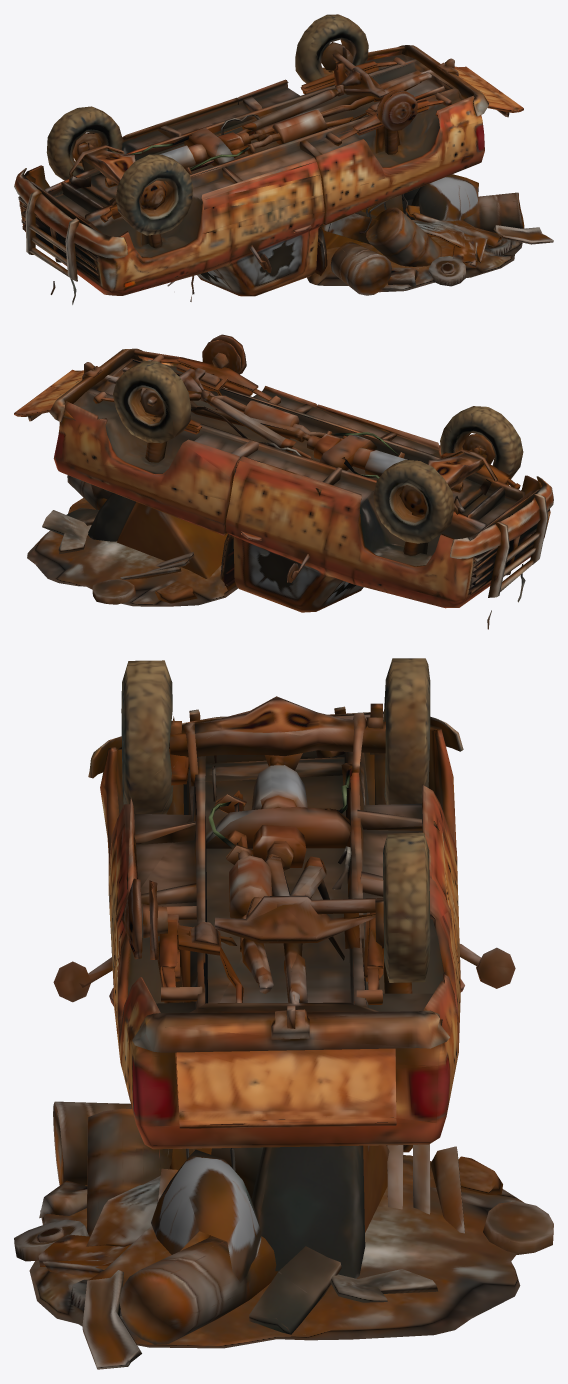
Rendered from wreck_5.glb.
The picture shows the model from 3 angles, top to bottom: view 1: azimuth 30°, elevation 25°; view 2: azimuth 150°, elevation 25°; view 3: azimuth 270°, elevation 25°; orthographic projection. The views are drawn at different scales.
Visible parts, largest first — view 1: geometry_0; view 2: geometry_0; view 3: geometry_0.
Part boxes in pixels (x1=…): geometry_0: x1=14, y1=14, x2=553, y2=304; geometry_0: x1=14, y1=334, x2=553, y2=629; geometry_0: x1=14, y1=658, x2=553, y2=1369.
Bounding box in the file's own units: 0.958 × 0.4106 × 0.4932.
Materials: 1 (1 with a texture image).
